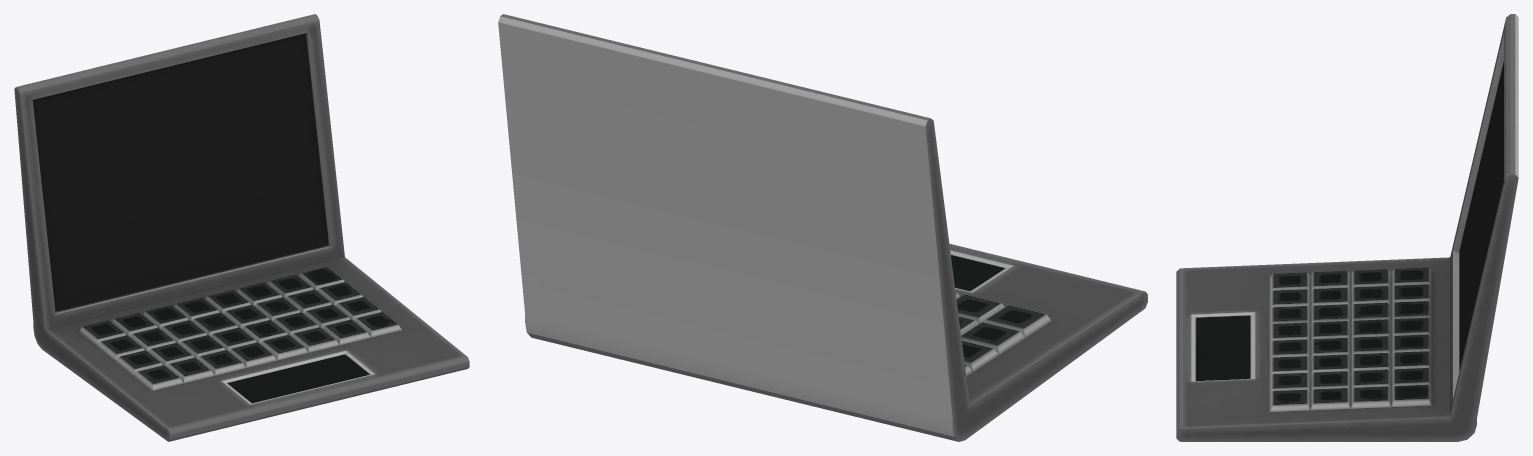
The picture shows the model from 3 angles, left to right: view 1: azimuth 30°, elevation 25°; view 2: azimuth 150°, elevation 25°; view 3: azimuth 270°, elevation 25°; orthographic projection. The views are drawn at different scales.
Parts seen in each view (by area): view 1: Object_2; view 2: Object_2; view 3: Object_2.
Part boxes in pixels (x1,y1,x2,y2): Object_2: (14,14,469,441); Object_2: (498,14,1147,441); Object_2: (1176,14,1518,441).
Size of the model in its own units: 121 by 94.2 by 109.
Materials: 1 (1 with a texture image).
